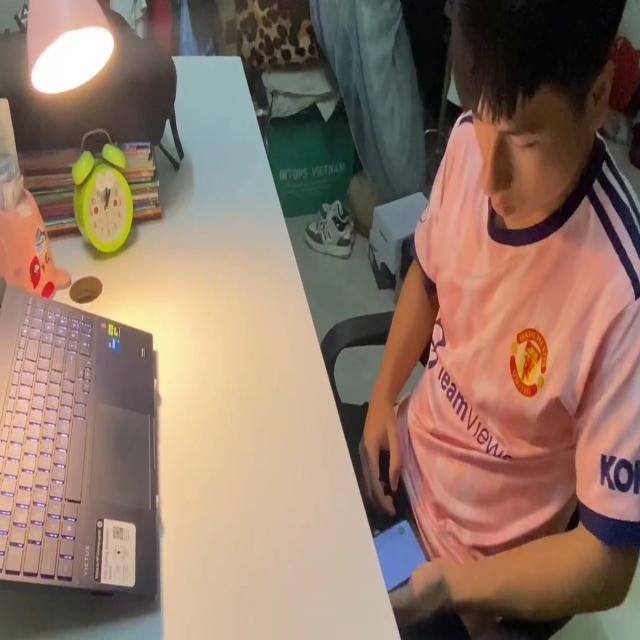laptop: (3, 274, 162, 604)
phone: (374, 515, 428, 594)
student: (355, 0, 640, 640)
